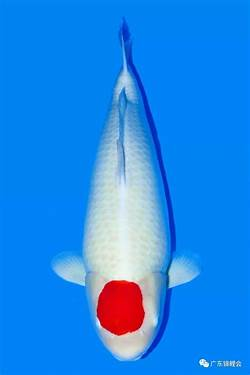sun: (49, 15, 201, 362)
